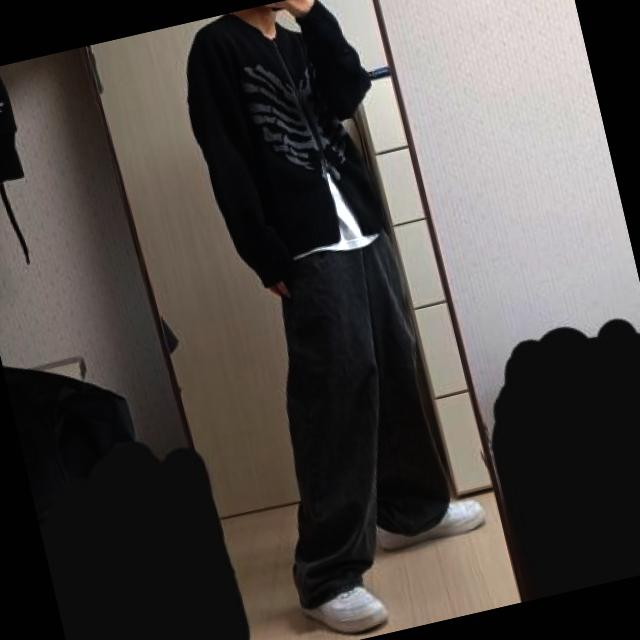cardigan: (166, 0, 410, 299)
denimpants: (218, 212, 472, 614)
